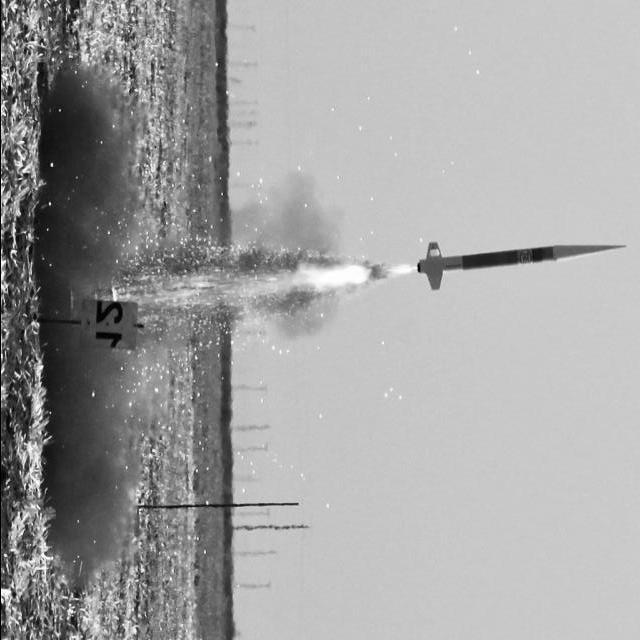missile: (419, 238, 628, 291)
